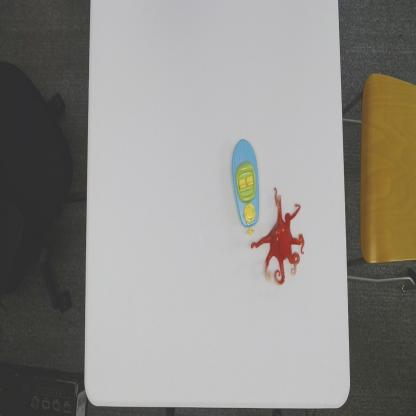Boat: (231, 137, 260, 235)
Octopus: (250, 185, 305, 287)
